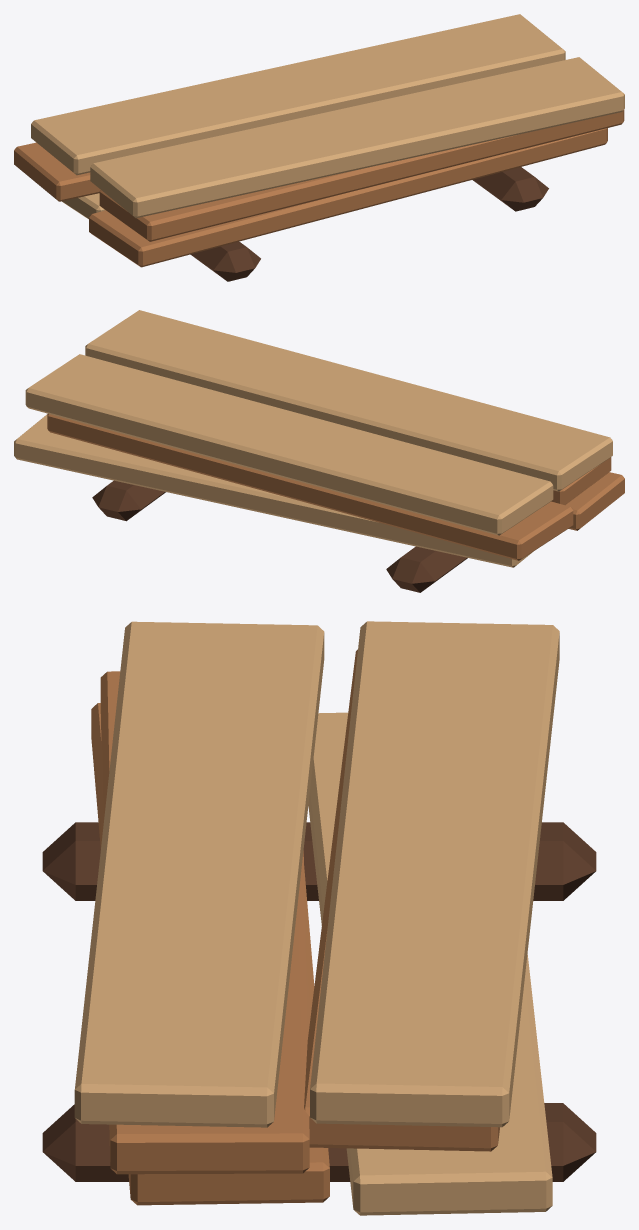
The model's file is Res_Planks.fbx.
3 renders of one model, top to bottom at view 1: azimuth 30°, elevation 25°; view 2: azimuth 150°, elevation 25°; view 3: azimuth 270°, elevation 25°, orthographic. The views are drawn at different scales.
Parts seen in each view (by area): view 1: Res_Planks; view 2: Res_Planks; view 3: Res_Planks.
Boxes of the visible parts, x1=… form: Res_Planks: x1=14, y1=14, x2=624, y2=281; Res_Planks: x1=14, y1=310, x2=624, y2=592; Res_Planks: x1=42, y1=621, x2=596, y2=1215.
Size of the model in its own units: 1.06 by 0.184 by 0.5.
